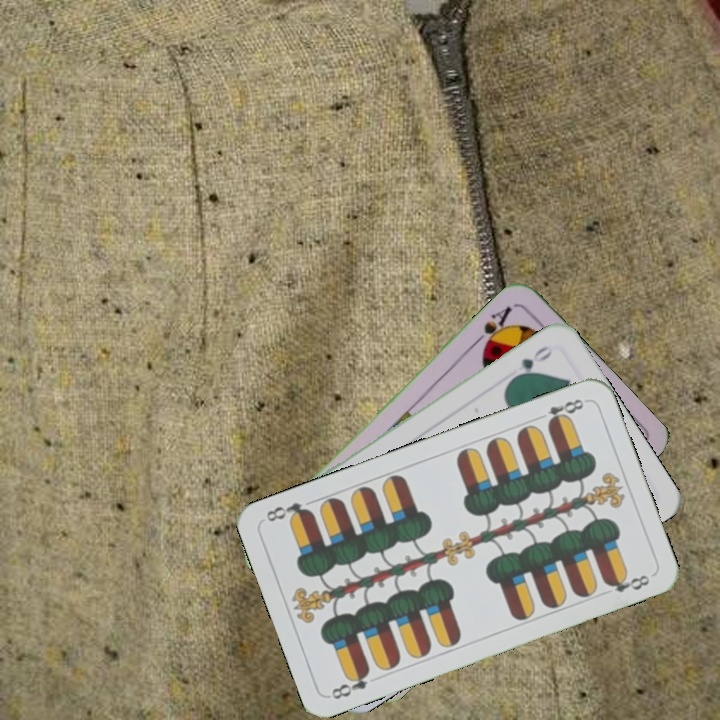E8: (532, 395, 587, 429), (327, 665, 373, 702)
GO: (507, 341, 556, 383)
SA: (470, 302, 514, 354)
